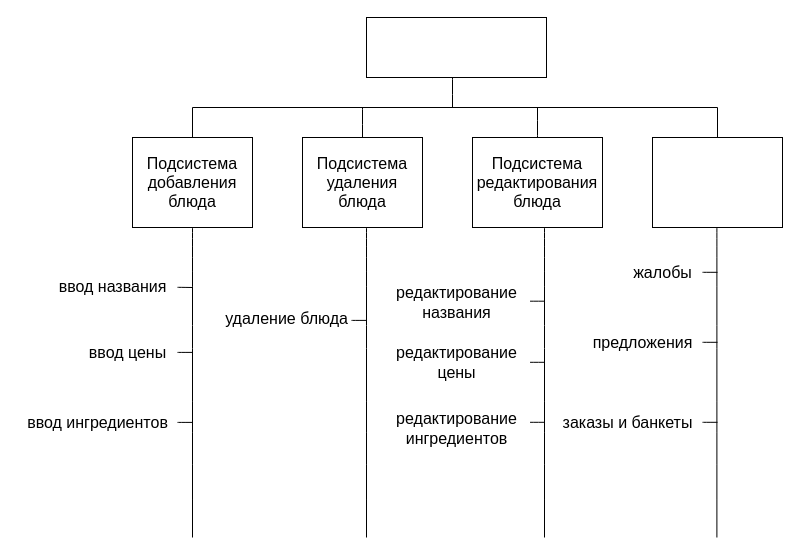
Some shapes in this 800 by 556 pixel diagram are drawn without their labels. Each missing label, with the centre of its shape:
АРМ "Администратор ресторана": [456,47]
Подсистема дополнительных функций: [717,182]
